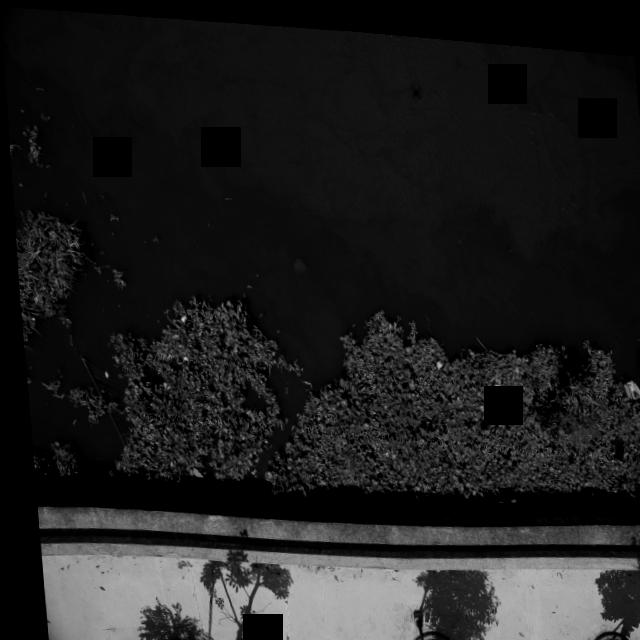plastic: (615, 365, 638, 394), (184, 461, 199, 480), (27, 290, 40, 307), (96, 465, 109, 478), (507, 355, 518, 370), (427, 351, 438, 366), (486, 393, 495, 409), (174, 309, 185, 322), (560, 494, 570, 505), (37, 111, 47, 121), (14, 180, 21, 189), (98, 367, 104, 377), (177, 351, 183, 360), (243, 464, 249, 473), (25, 315, 31, 322), (156, 379, 163, 384), (215, 410, 218, 414)
